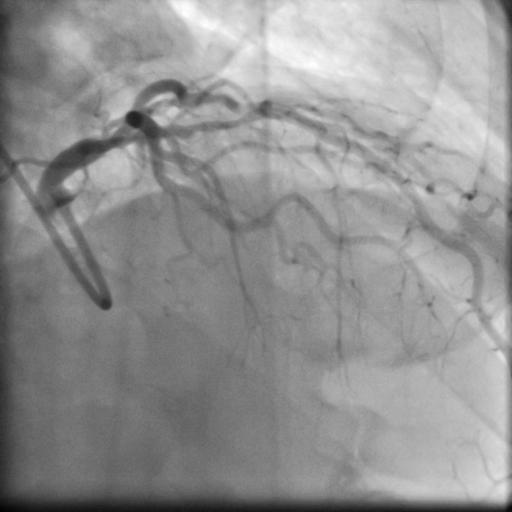Stenosis: (170, 122, 245, 135)
